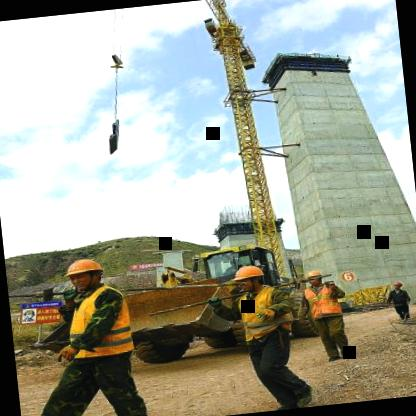helmet: (60, 252, 110, 292), (228, 260, 270, 294), (300, 264, 331, 288)
